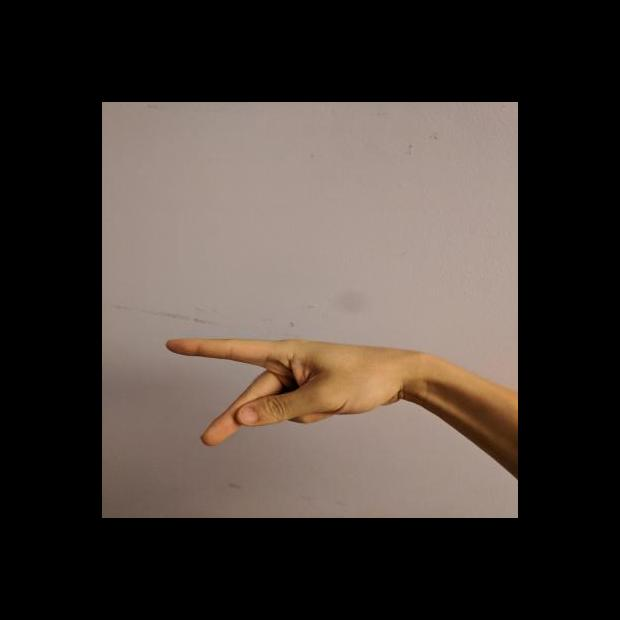O: (162, 335, 410, 448)
